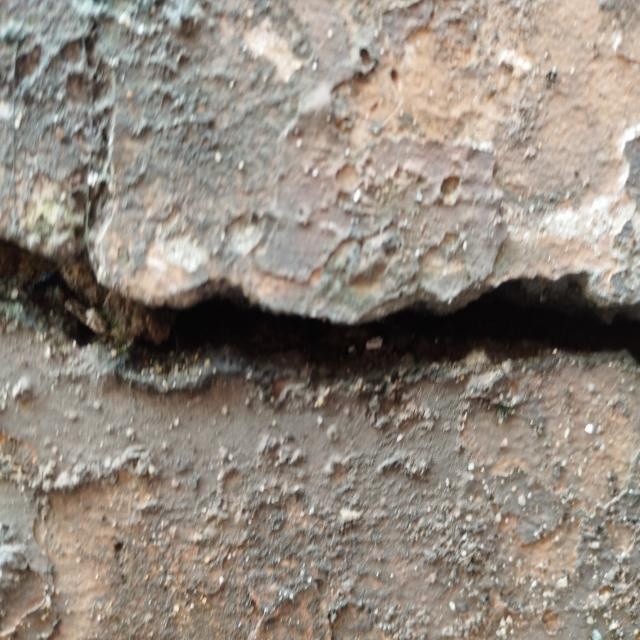horizontal crack: (0, 241, 640, 385)
